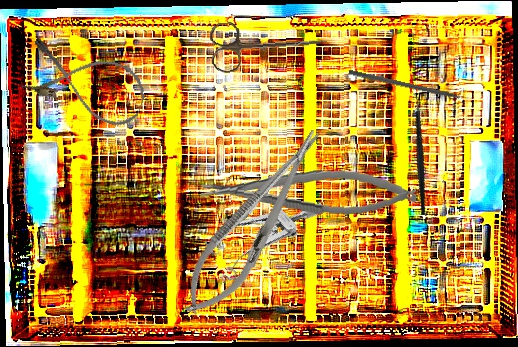Cannula: (17, 33, 153, 132)
Chopper: (374, 90, 461, 216)
Hook Surgical: (347, 69, 476, 105)
Iris Scissors: (209, 14, 329, 74)
Needle Holder: (168, 117, 340, 329), (199, 159, 418, 222)
Speculum: (195, 168, 327, 293)
